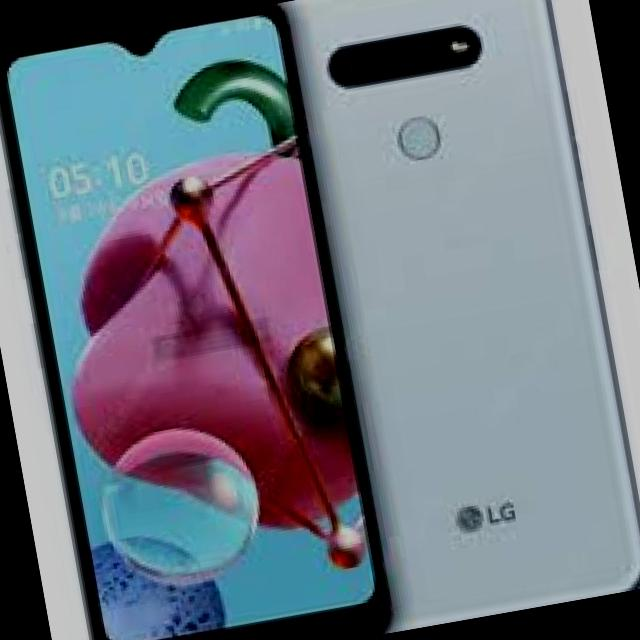lens_back: (336, 42, 386, 94)
phone: (0, 6, 395, 640), (281, 0, 640, 632)
